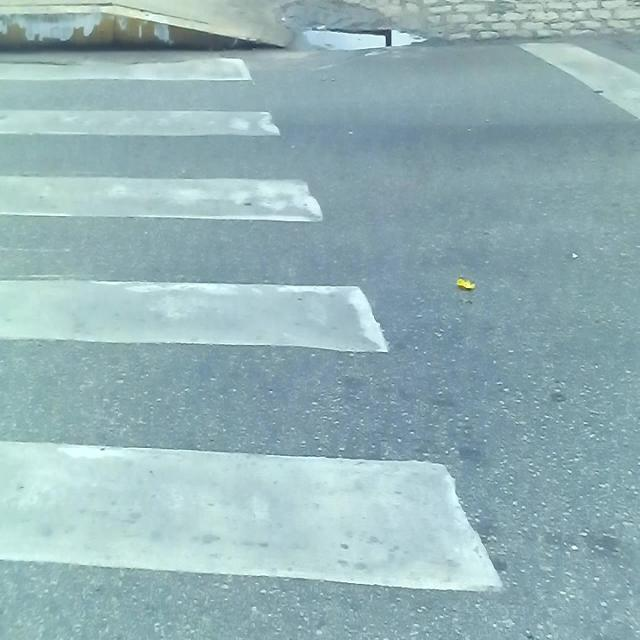crosswalk: (0, 50, 553, 640)
